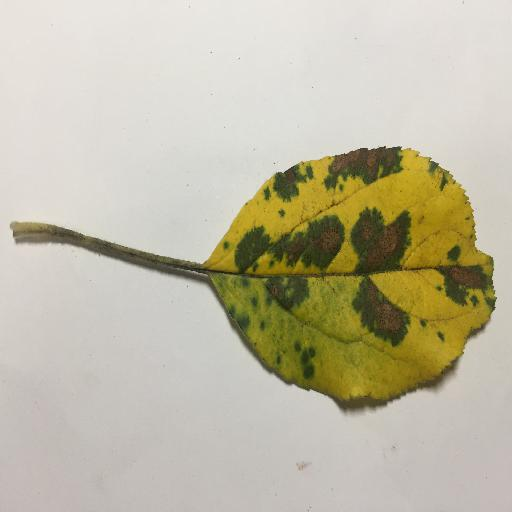Brown_Spot: (364, 284, 402, 334), (363, 224, 402, 269), (285, 235, 338, 257), (330, 151, 395, 168), (447, 268, 489, 291), (267, 282, 282, 298), (284, 168, 297, 184)
